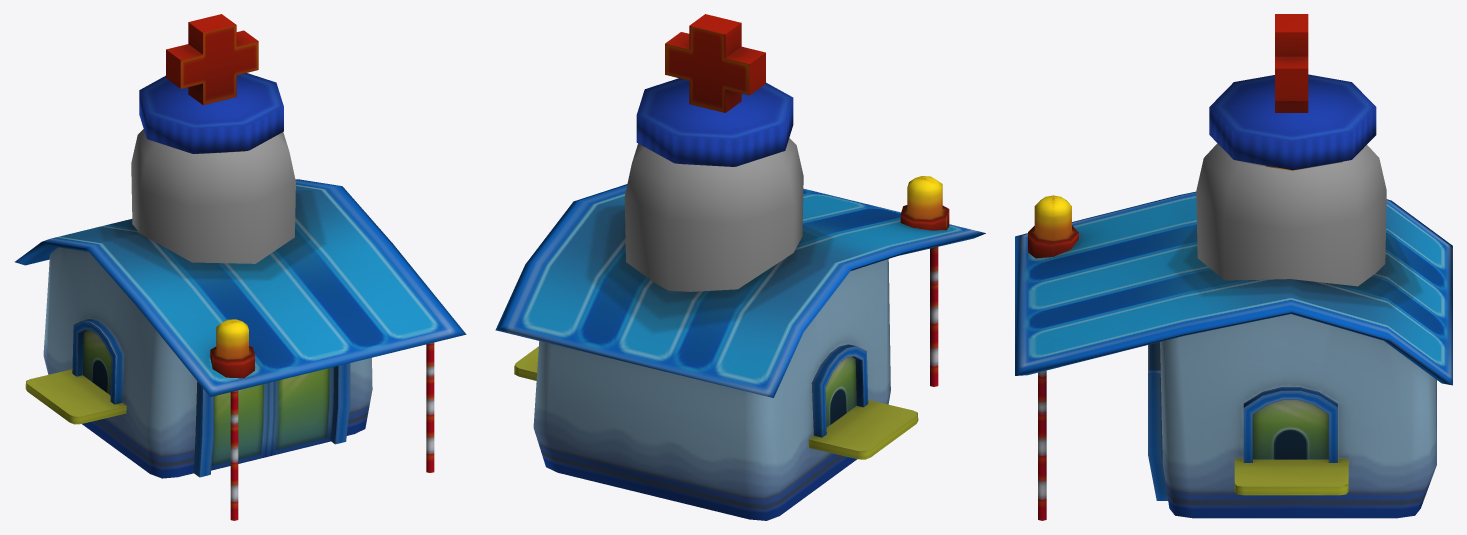
The model's file is NoAnim_DrugStore.FBX.
The picture shows the model from 3 angles, left to right: view 1: azimuth 30°, elevation 25°; view 2: azimuth 150°, elevation 25°; view 3: azimuth 270°, elevation 25°; orthographic projection. The views are drawn at different scales.
Visible parts, largest first — view 1: NoAnim_DrugStore, Bottle; view 2: NoAnim_DrugStore, Bottle; view 3: NoAnim_DrugStore, Bottle.
Part boxes in pixels (box(x1,y1,x2,y2)): NoAnim_DrugStore: box(15, 14, 466, 520); Bottle: box(131, 129, 295, 263); NoAnim_DrugStore: box(495, 14, 985, 520); Bottle: box(624, 138, 803, 291); NoAnim_DrugStore: box(1015, 14, 1452, 520); Bottle: box(1196, 143, 1386, 286).
Bounding box in the file's own units: 84.19 × 96.53 × 87.45.
